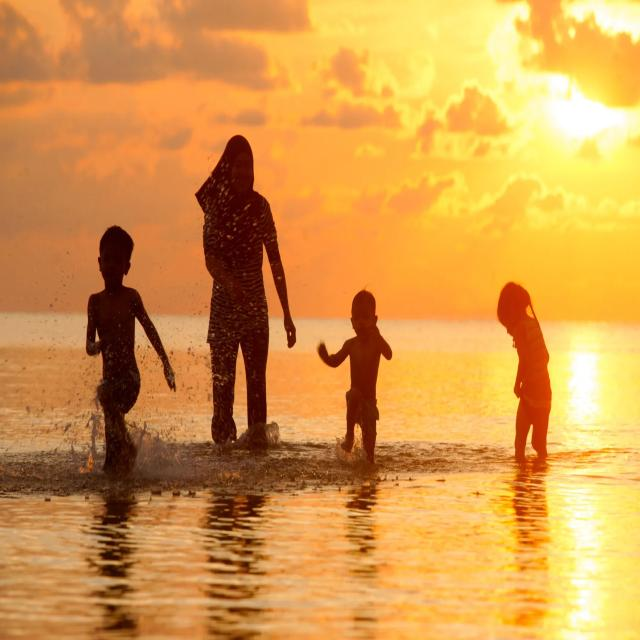adult: (196, 134, 296, 449)
child: (88, 223, 177, 468), (318, 286, 392, 464), (496, 281, 553, 459)
